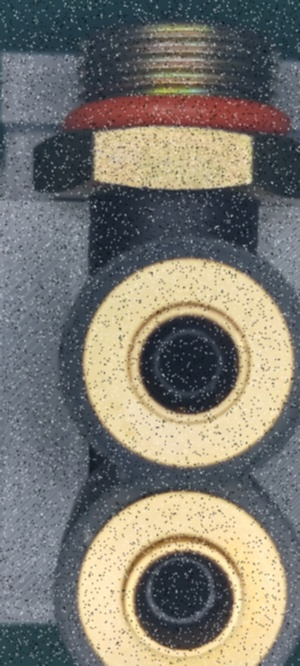joint line: (175, 208, 184, 234)
white mark: (177, 190, 188, 205)
